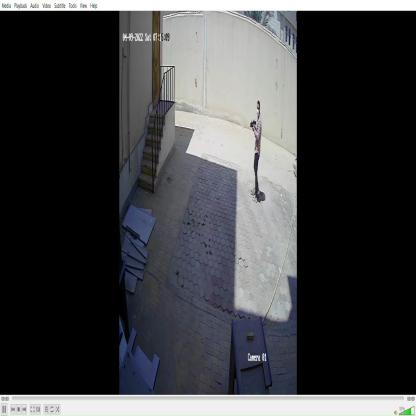handgun: (248, 115, 258, 135)
